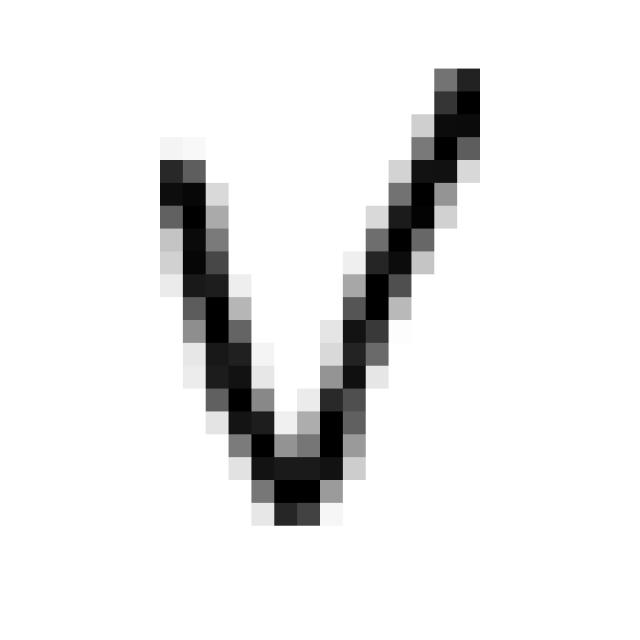7 -seven-: (140, 39, 497, 540)
